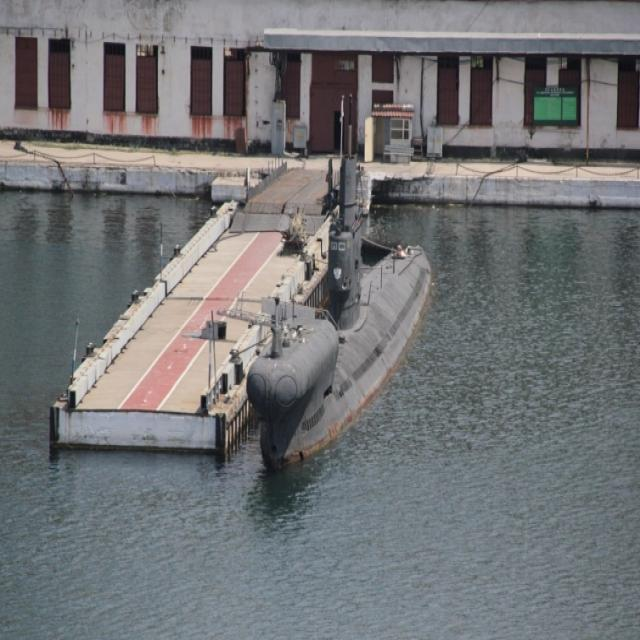submarine: (246, 125, 435, 483)
